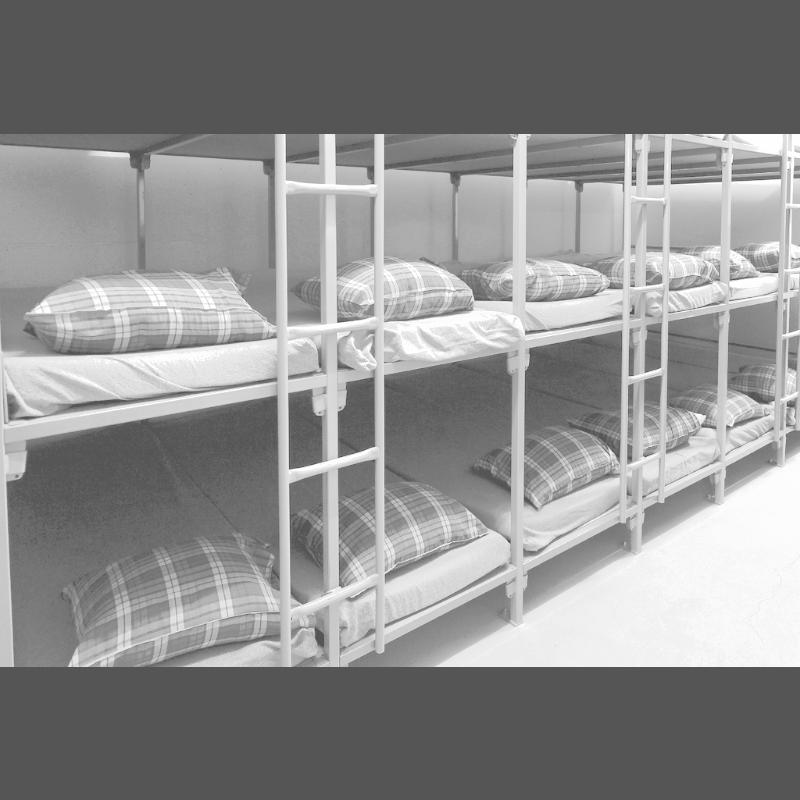pillow: (63, 532, 321, 666), (9, 268, 292, 360), (291, 468, 495, 594), (291, 250, 475, 324), (470, 422, 614, 510), (570, 402, 702, 462), (458, 254, 614, 300), (581, 250, 719, 288), (666, 384, 769, 430), (684, 242, 760, 282), (726, 366, 798, 406), (727, 239, 799, 274)
